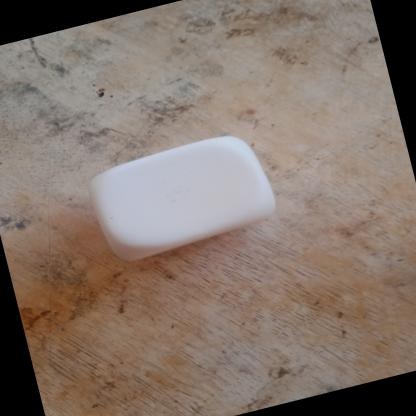Cube: (78, 120, 304, 271)
